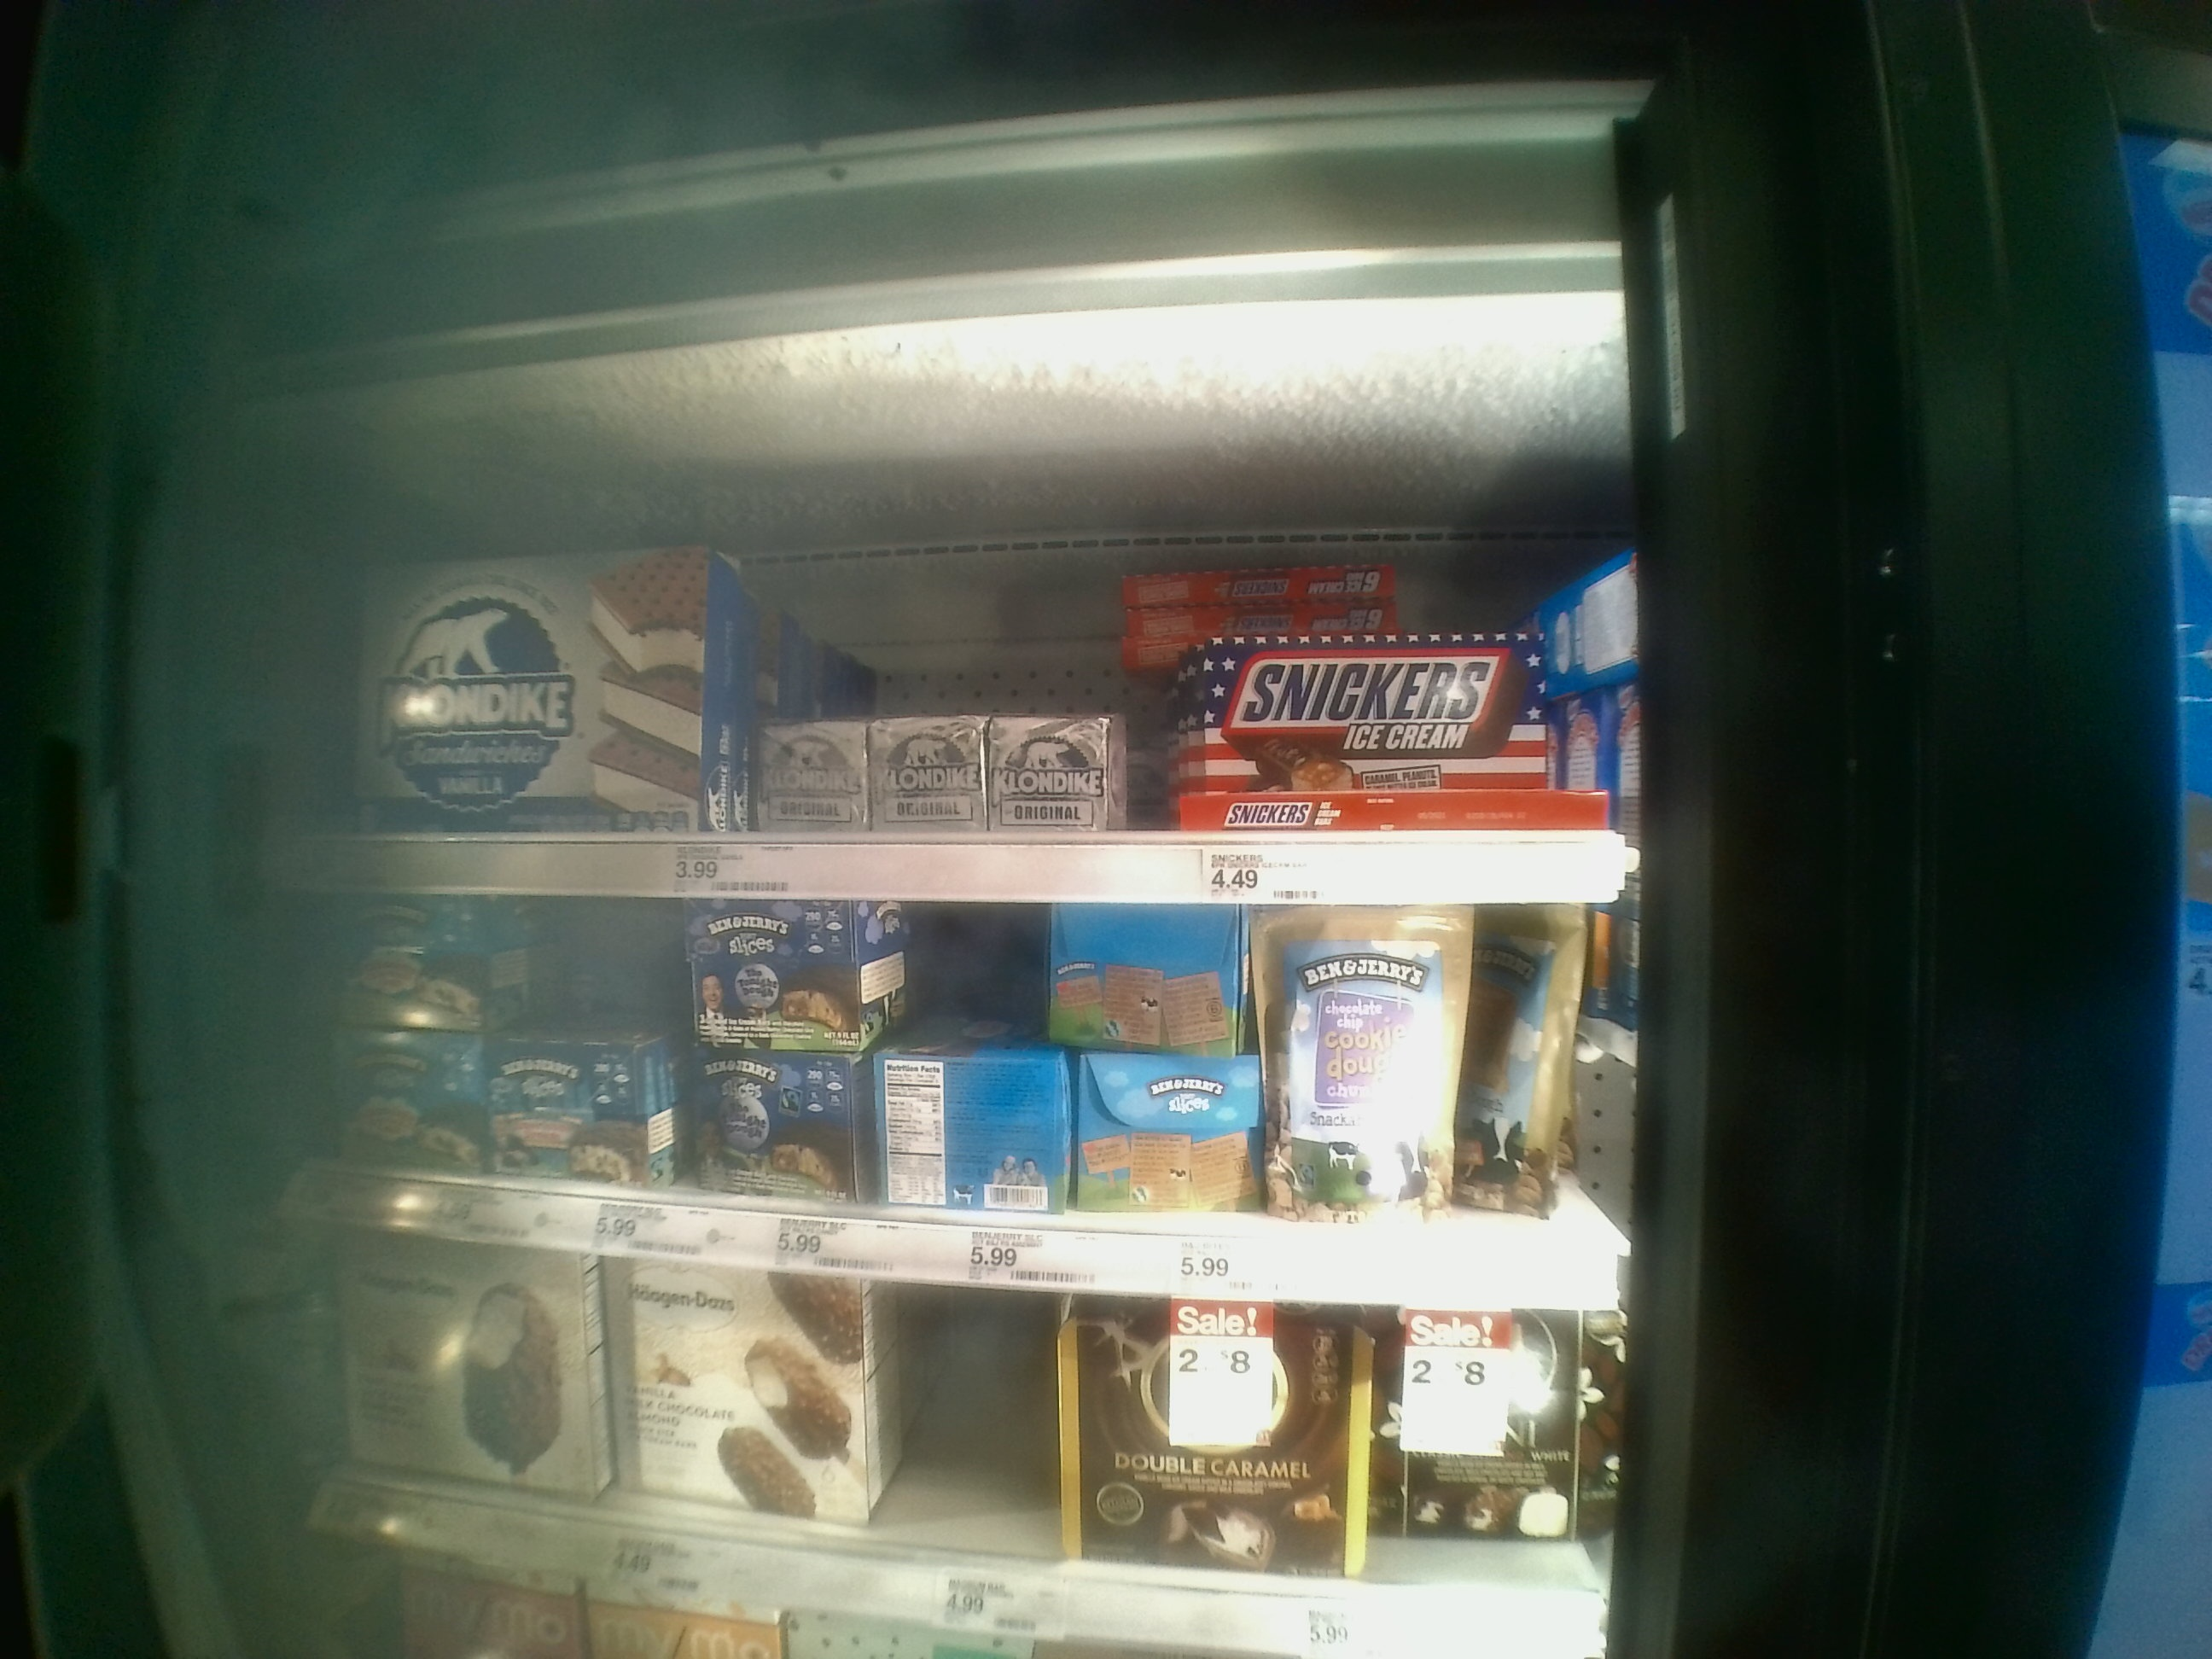ice-cream-shelf: (326, 425, 1629, 899)
